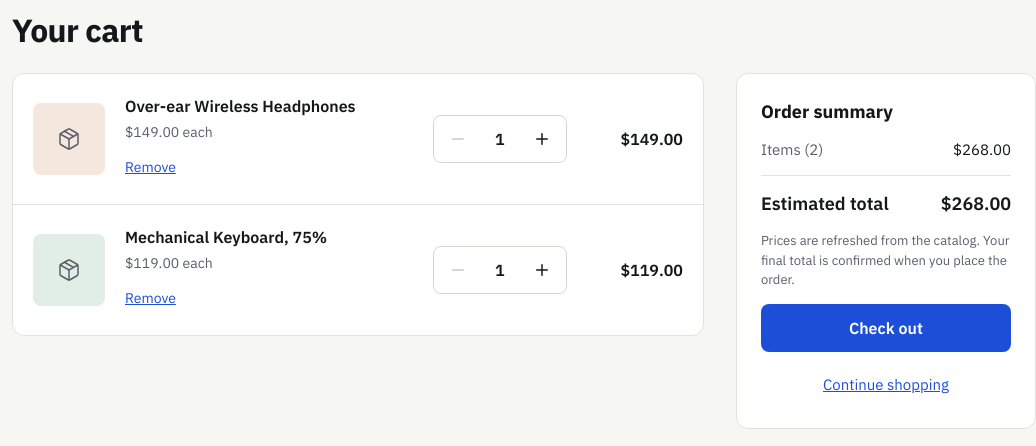
Test: CartPage › removes a line
The width and height of the screenshot is (1036, 446).
Step 1. Click the button with aria-label "Remove Over-ear Wireless Headphones" → (150,167), box [125,151,176,184]
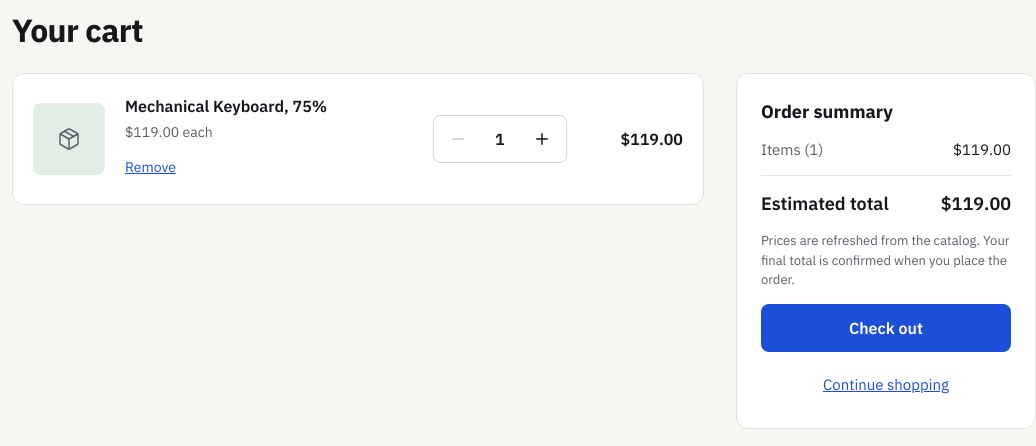
Expected: the number of list items is 1, [13,74,703,204]
